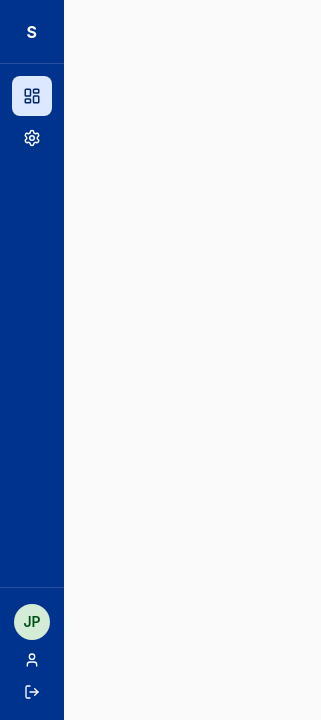
Sidebar › opens the group pages in a panel and closes it with Escape when collapsed
Click the button named "configuración" at (32, 138), box [12,118,52,158]
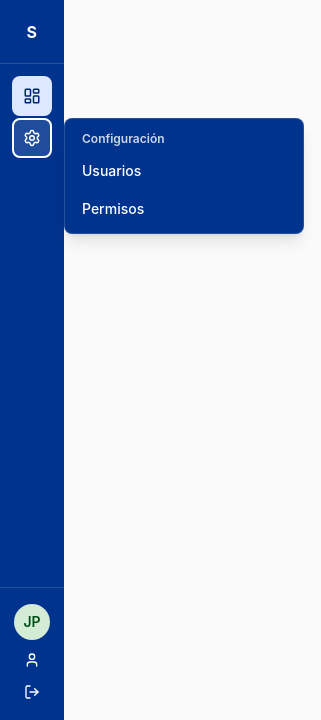
Press Escape
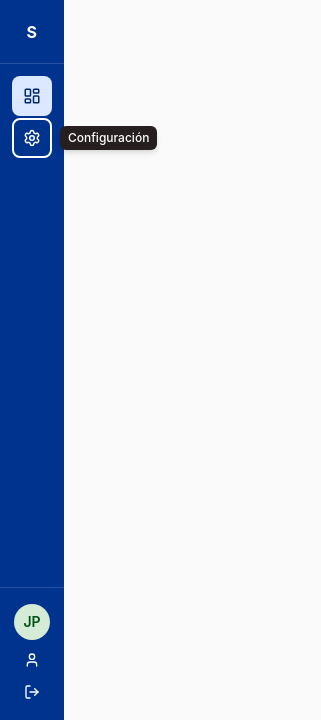
Result: the link "Usuarios" is gone
